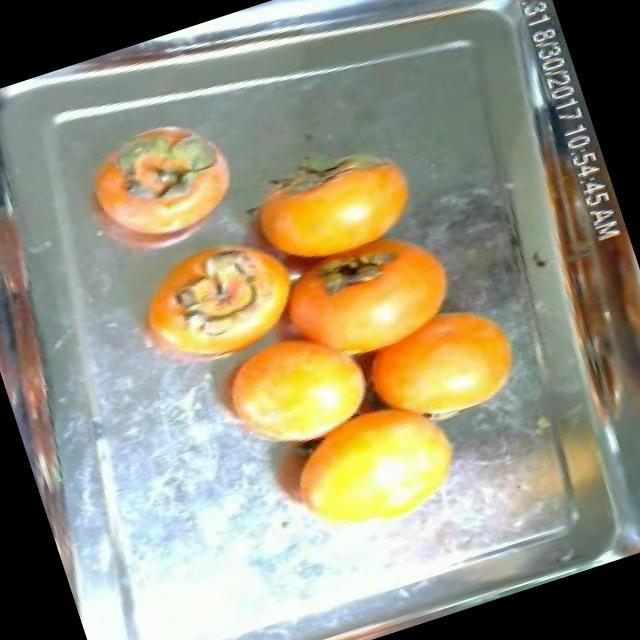Fruit: (264, 383, 488, 563), (225, 122, 443, 300), (60, 94, 262, 275), (372, 282, 544, 438)
